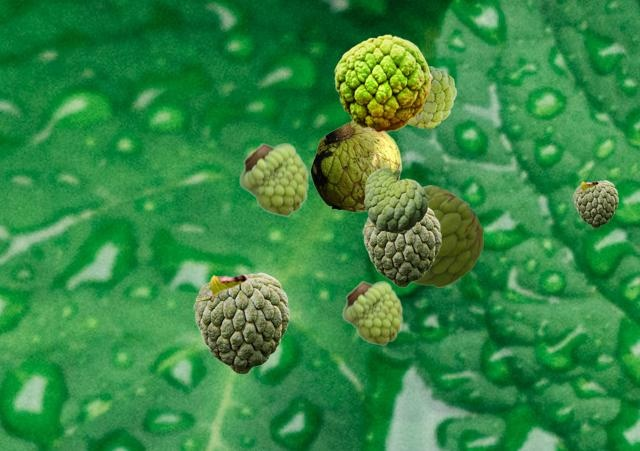atis: (377, 185, 482, 286), (193, 272, 288, 373), (334, 34, 429, 131), (310, 120, 400, 211), (362, 206, 440, 286), (239, 142, 308, 216), (364, 167, 426, 232), (342, 280, 402, 345), (408, 66, 455, 127), (573, 180, 617, 227)
